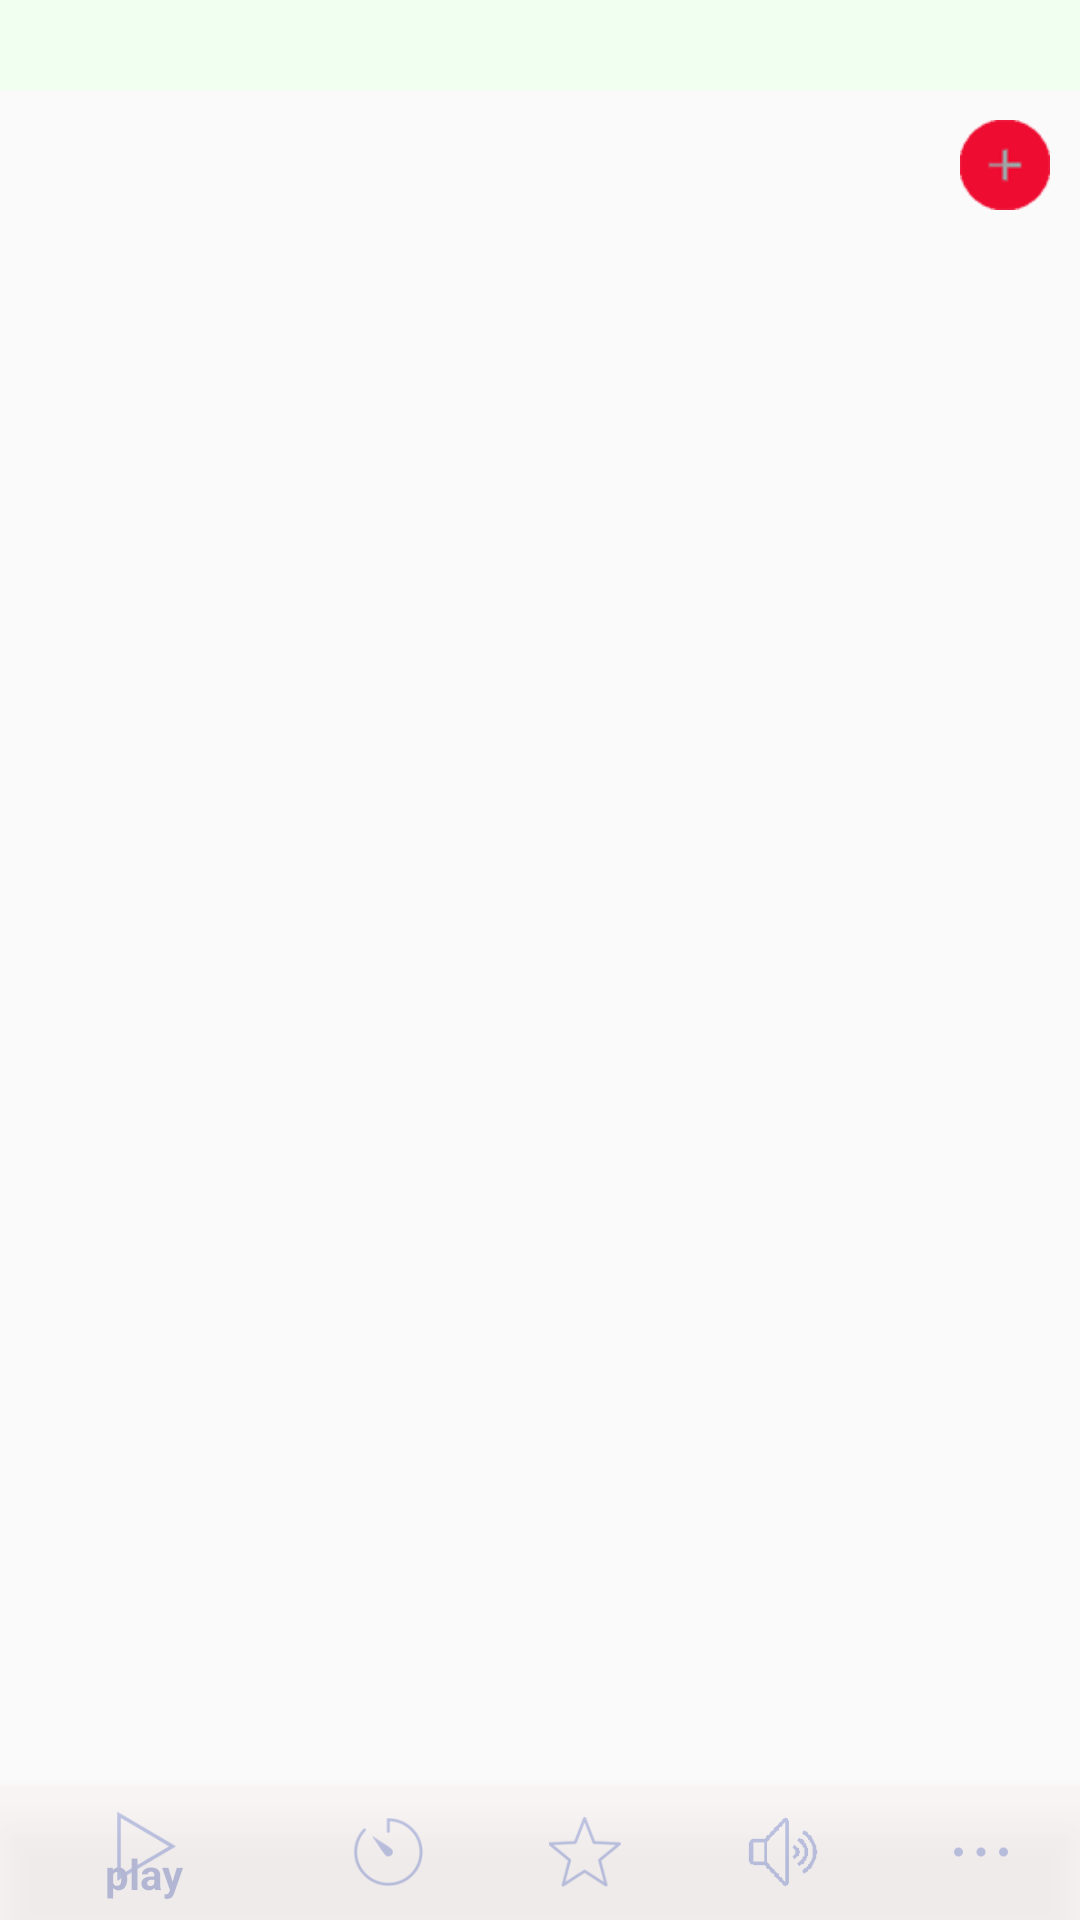

Where to tap for icons on this 1080 x 1920 app screen, as (x,y):
add: (1005,165)
